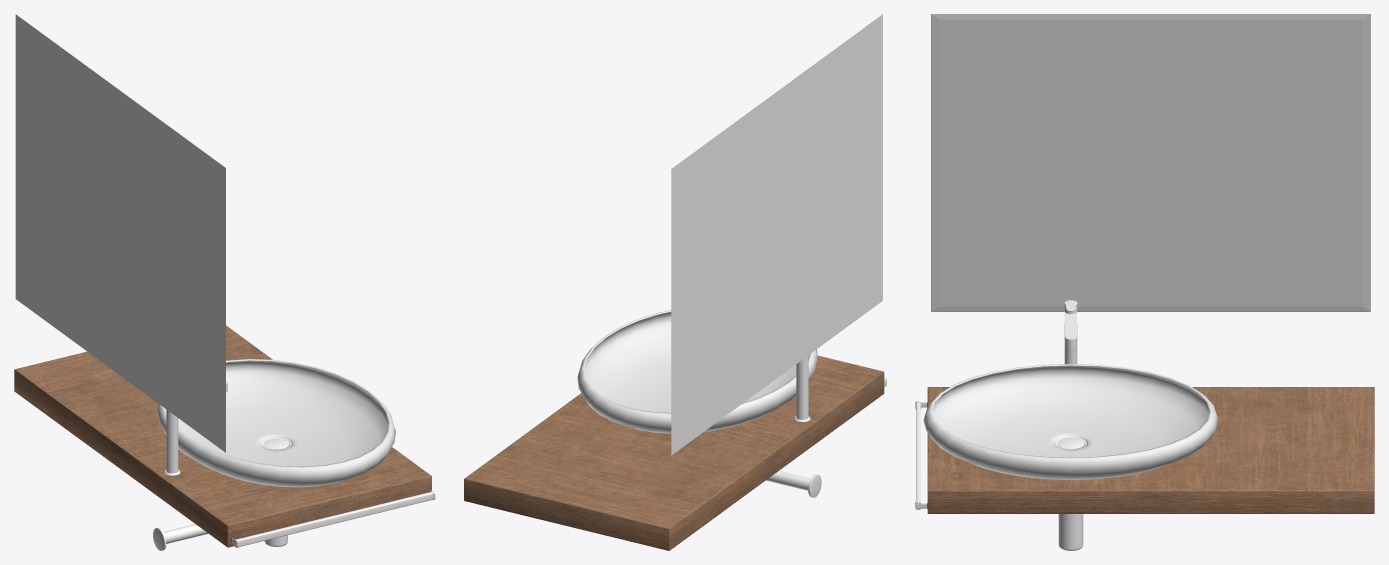
File: wsj.glb
3 views of the same model, side by side, from view 1: azimuth 30°, elevation 25°; view 2: azimuth 150°, elevation 25°; view 3: azimuth 270°, elevation 25° (orthographic). The views are drawn at different scales.
Visible parts, largest first — view 1: Plane.002, Cube.002, Circle, Cube.001, Circle.003, Circle.004; view 2: Plane.002, Cube.002, Circle, Circle.004, Circle.003; view 3: Plane.001, Cube.002, Circle, Circle.003, Circle.004.
Boxes of the visible parts, x1,y1,x2,y2 form: Plane.002: (15, 14, 225, 452); Cube.002: (14, 325, 431, 547); Circle: (156, 359, 395, 487); Cube.001: (237, 492, 433, 546); Circle.003: (153, 524, 287, 550); Circle.004: (164, 380, 227, 475); Plane.002: (671, 14, 882, 454); Cube.002: (464, 355, 884, 550); Circle: (577, 310, 817, 433); Circle.004: (794, 355, 810, 421); Circle.003: (766, 471, 821, 497); Plane.001: (931, 14, 1370, 311); Cube.002: (927, 387, 1374, 513); Circle: (923, 364, 1218, 479); Circle.003: (1058, 514, 1083, 550); Circle.004: (1064, 312, 1077, 364).
Size of the model in its own units: 0.7325 by 1.48 by 1.3.
9 materials, 2 textured.
